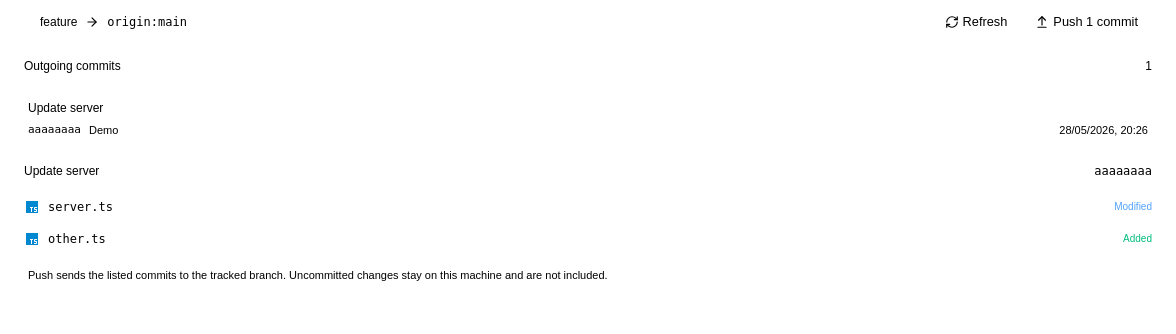
Scenario: ignores late file responses and can close loading or failed previews
The width and height of the screenshot is (1176, 334).
Click the button "server.ts Modified": [81, 206] box [12,190,1164,222]
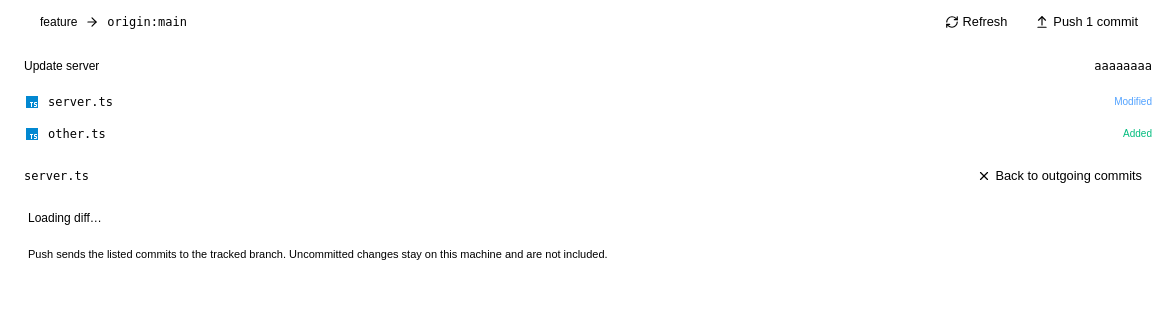
Result: the text "Loading diff…" is shown at [28,211,102,225]
Click the button "other.ts Added": [77, 134] box [12,118,1164,150]
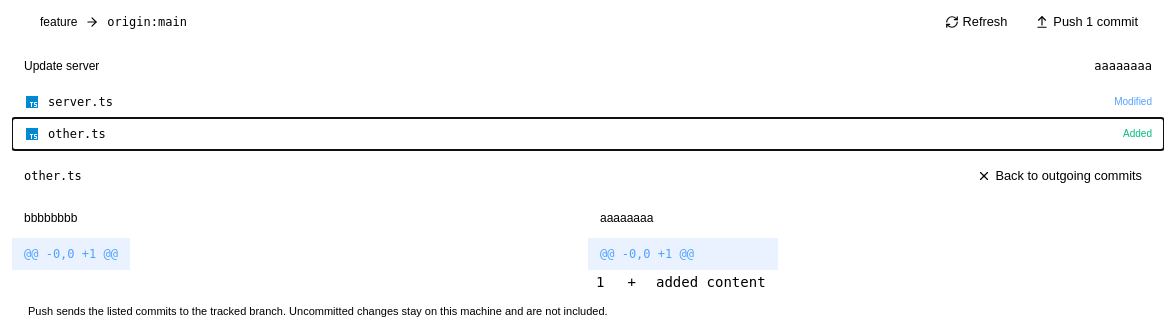
Result: the text "added content" is shown at [656,270,766,294]
Result: the element named "Side-by-side diff" is shown at [12,211,778,290]
Click the button "server.ts Modified": [81, 102] box [12,86,1164,118]
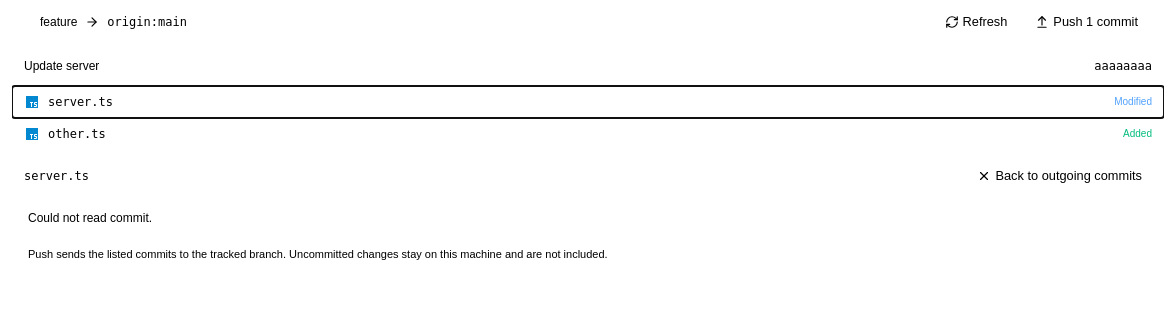
Result: the message reads "Could not read commit." at [28,211,152,225]
Click the button "Back to outgoing commits": [1060, 176] box [968,162,1152,190]
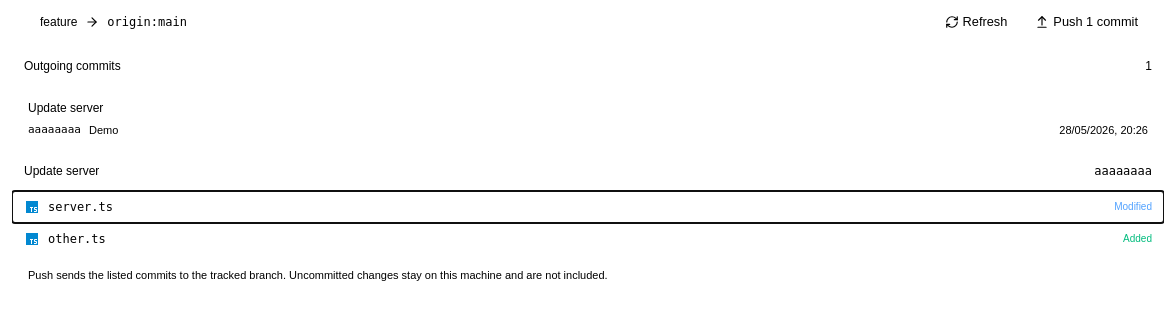
Result: the element "Outgoing commits" is shown at [12,50,1164,154]
